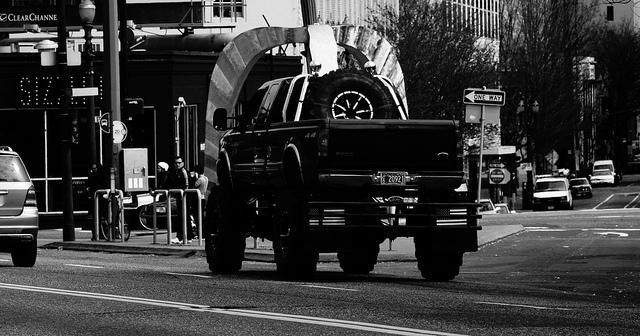bicycle: (100, 207, 130, 242)
car: (1, 146, 40, 268), (534, 174, 575, 210), (140, 198, 178, 229), (570, 178, 592, 198), (590, 168, 616, 184), (479, 198, 501, 215), (592, 160, 615, 174), (494, 203, 517, 214)
truck: (204, 62, 483, 282)
